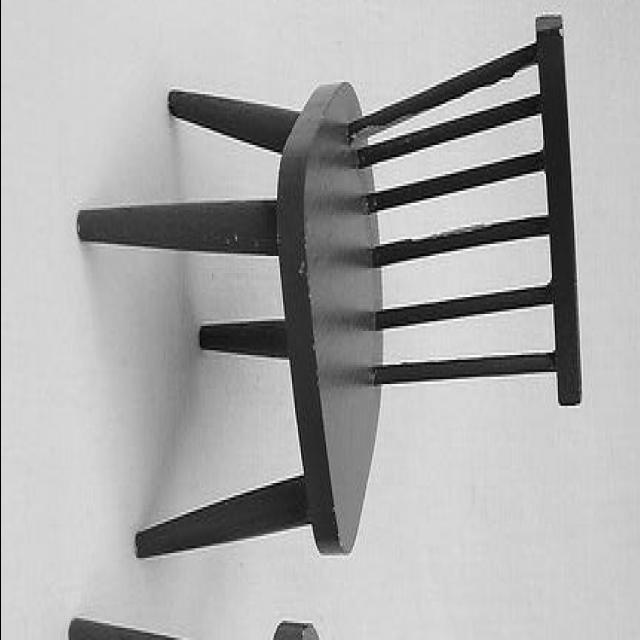chair: (75, 12, 582, 560)
